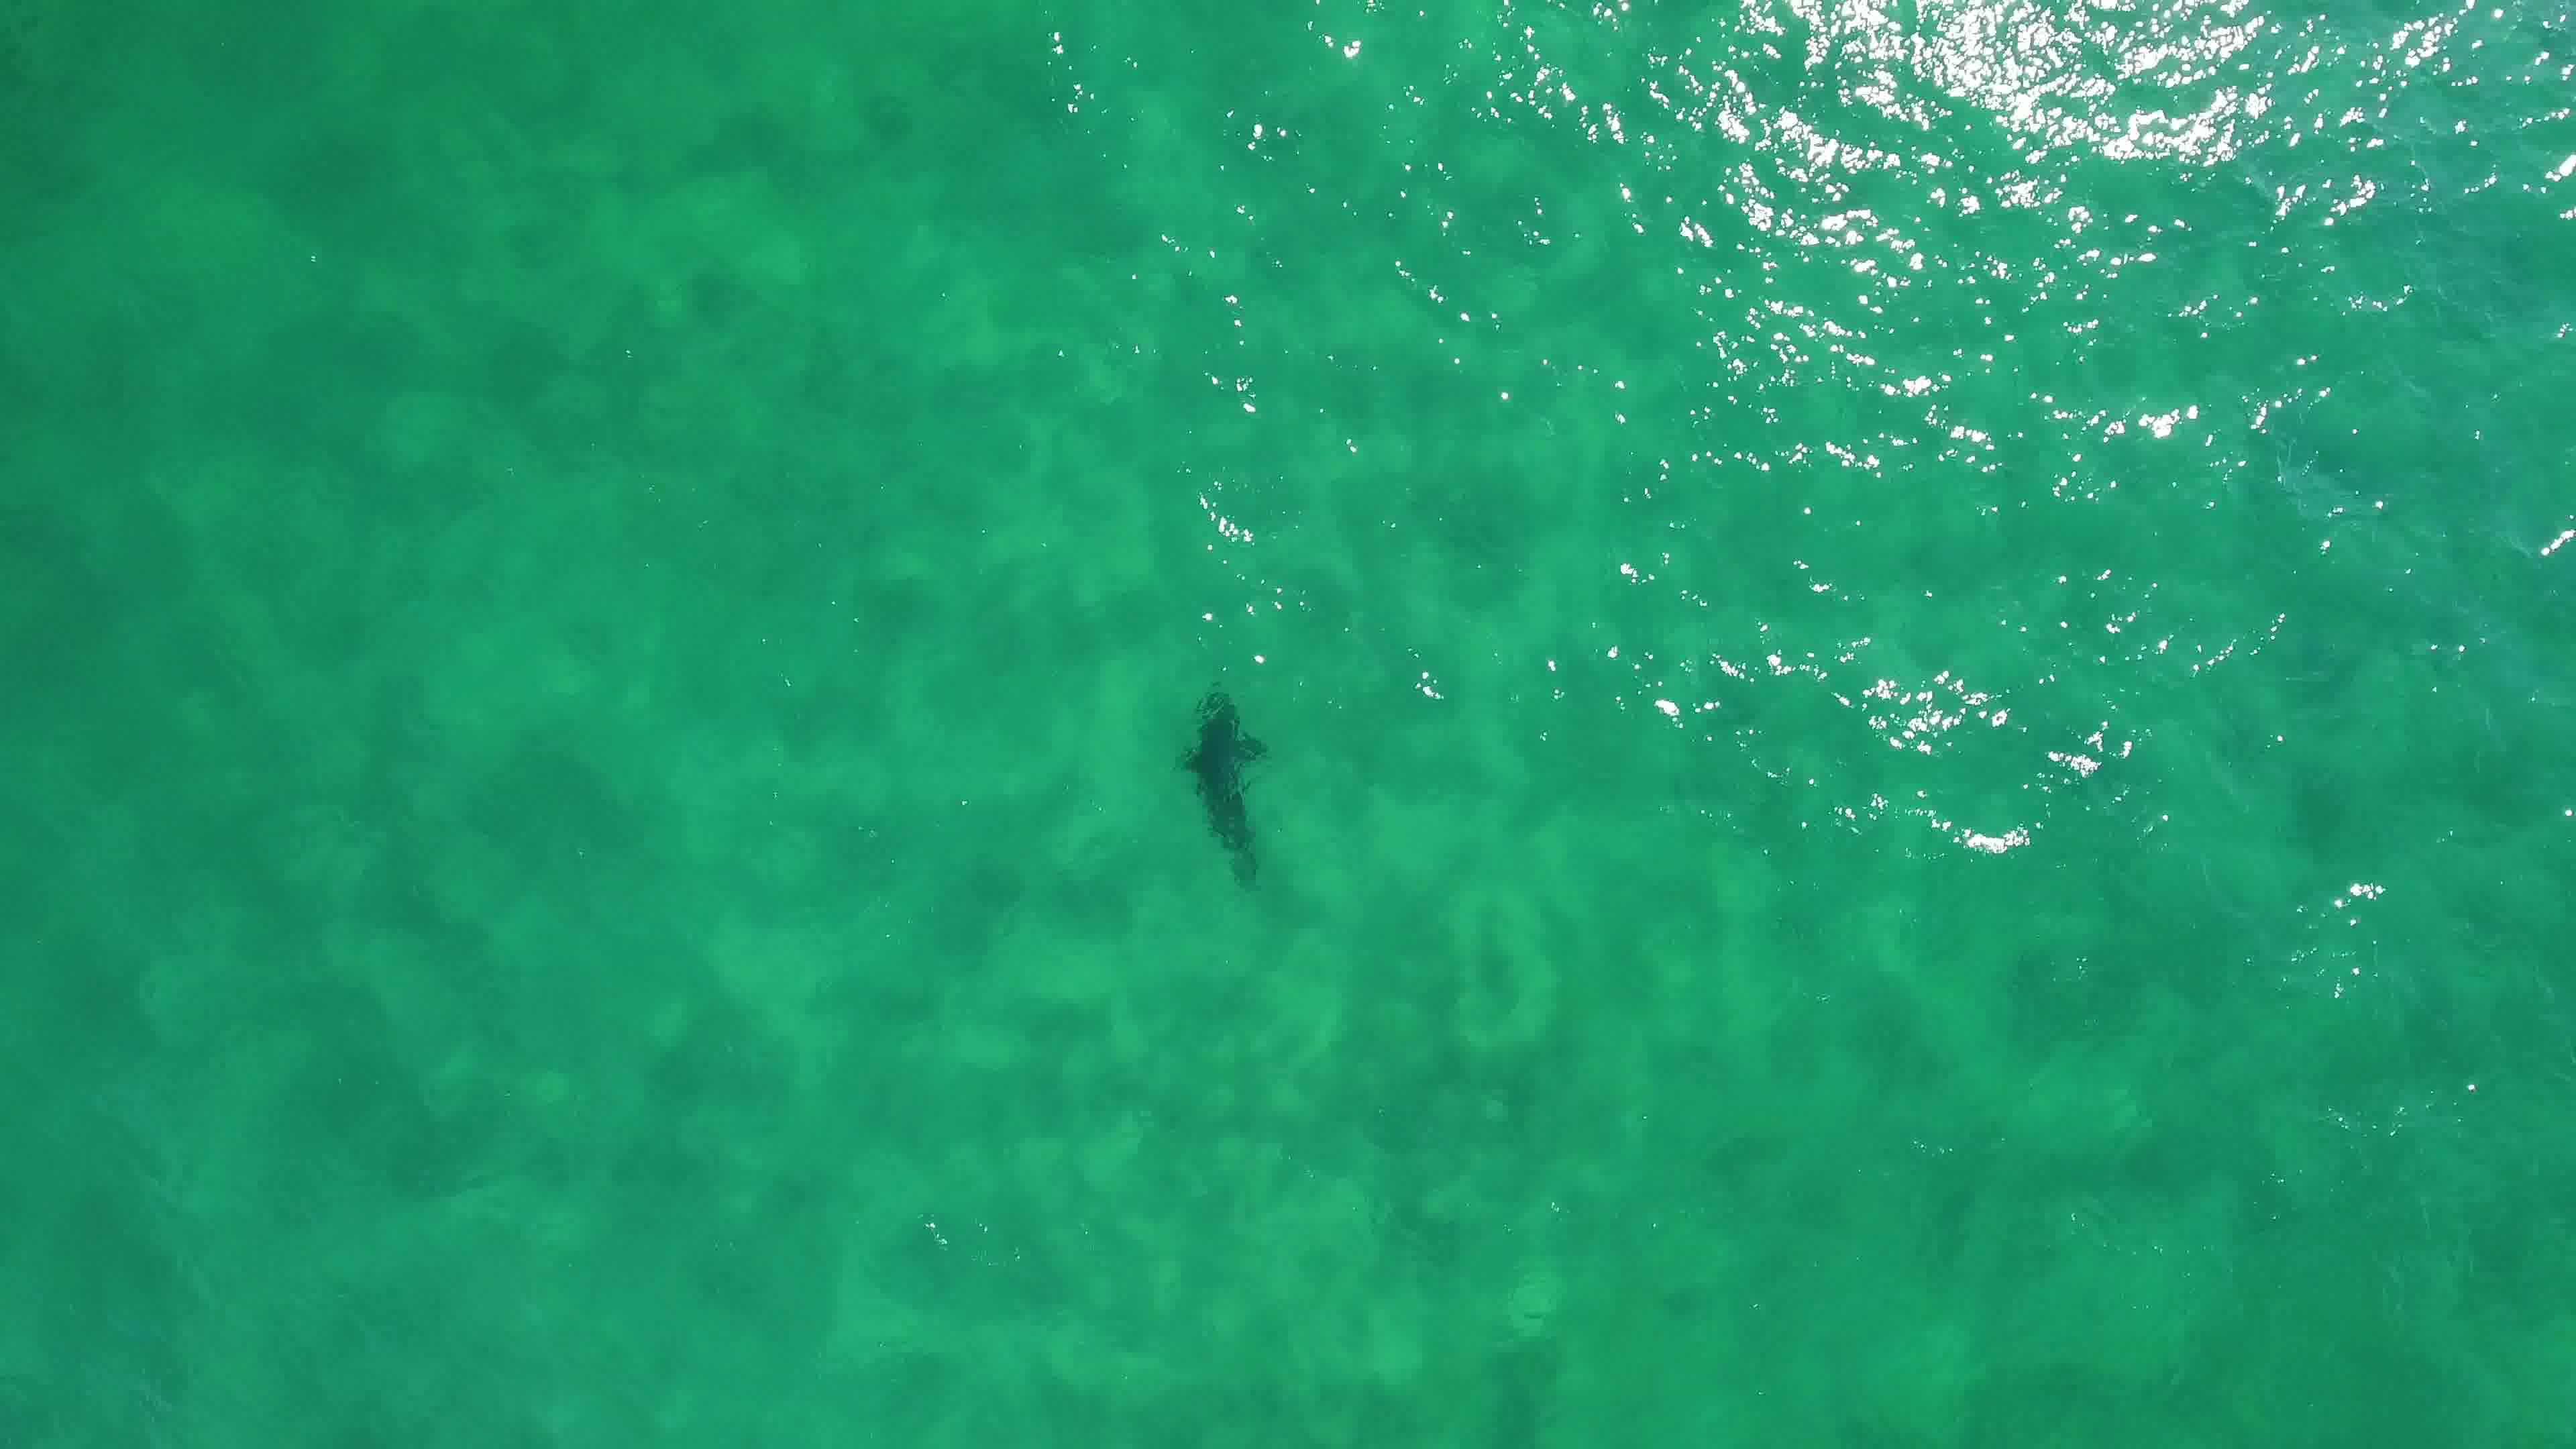shark: (1164, 678, 1277, 869)
